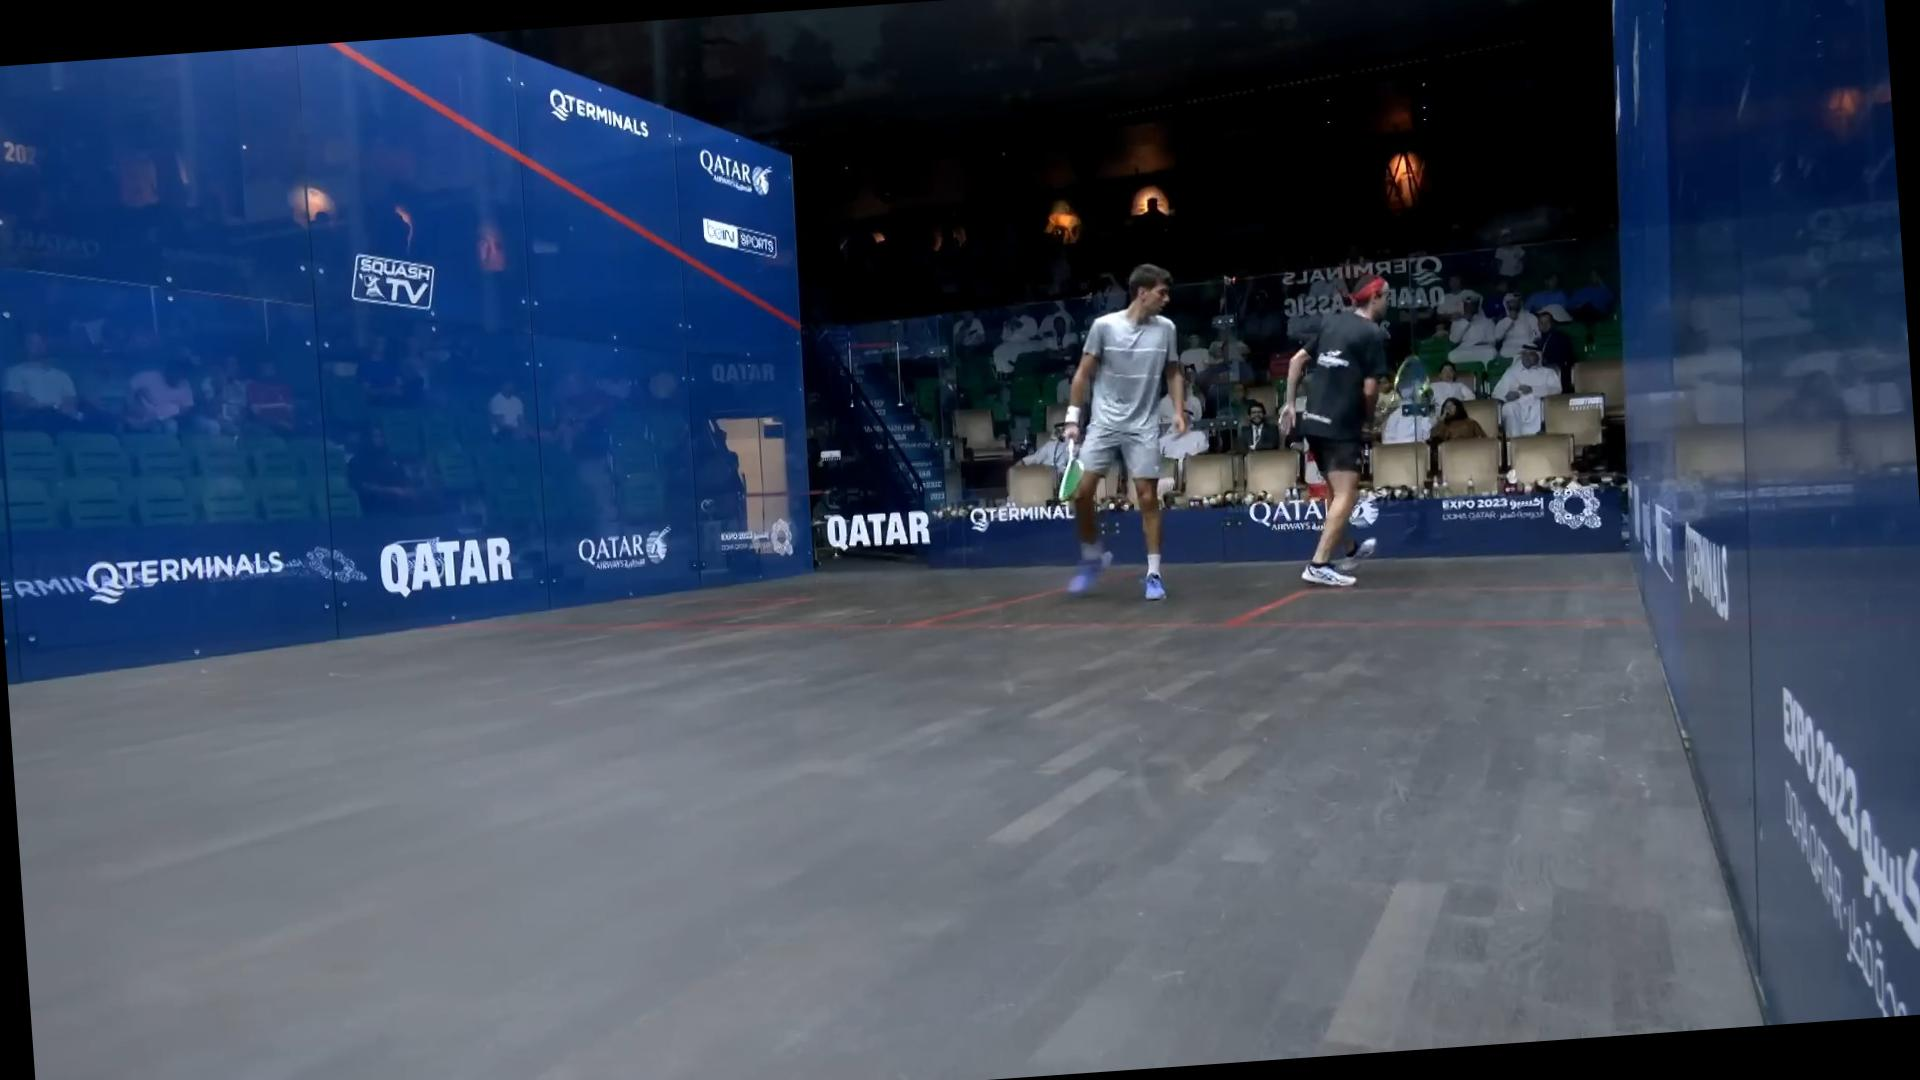Racket: (1375, 349, 1436, 421), (1050, 433, 1089, 500)
